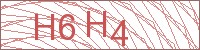4: (109, 19, 129, 46)
6: (58, 13, 76, 41)
H: (85, 10, 108, 38), (33, 13, 55, 41)
